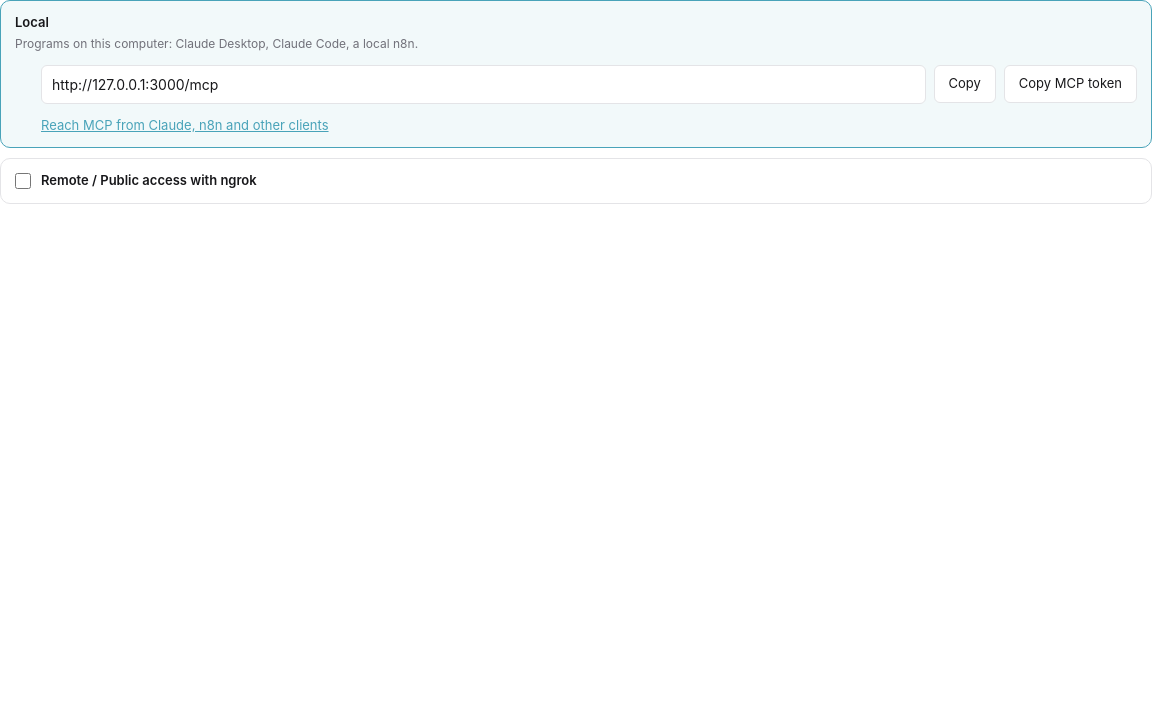
Test case: McpReach › says when the service cannot open tunnels
Click the checkbox labelled "Remote / Public access with ngrok" at coordinates (23, 181), box [15,173,31,189]
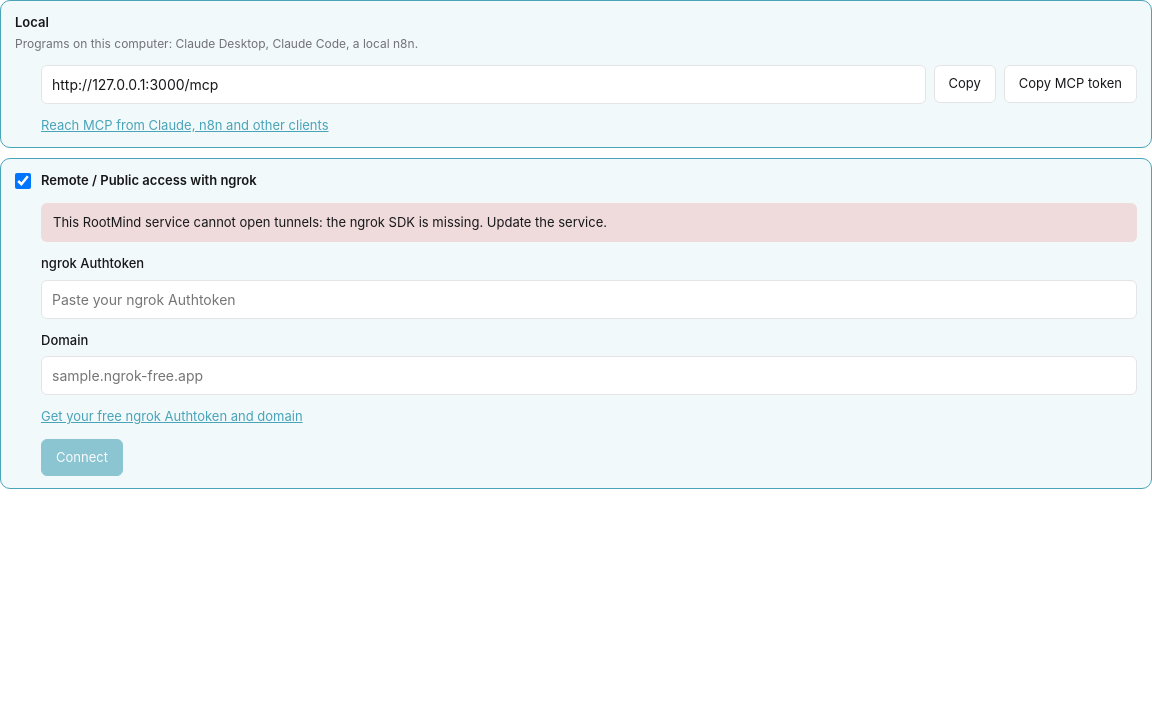
expect the text "the ngrok SDK is missing" is shown: met, box [53,214,607,230]
